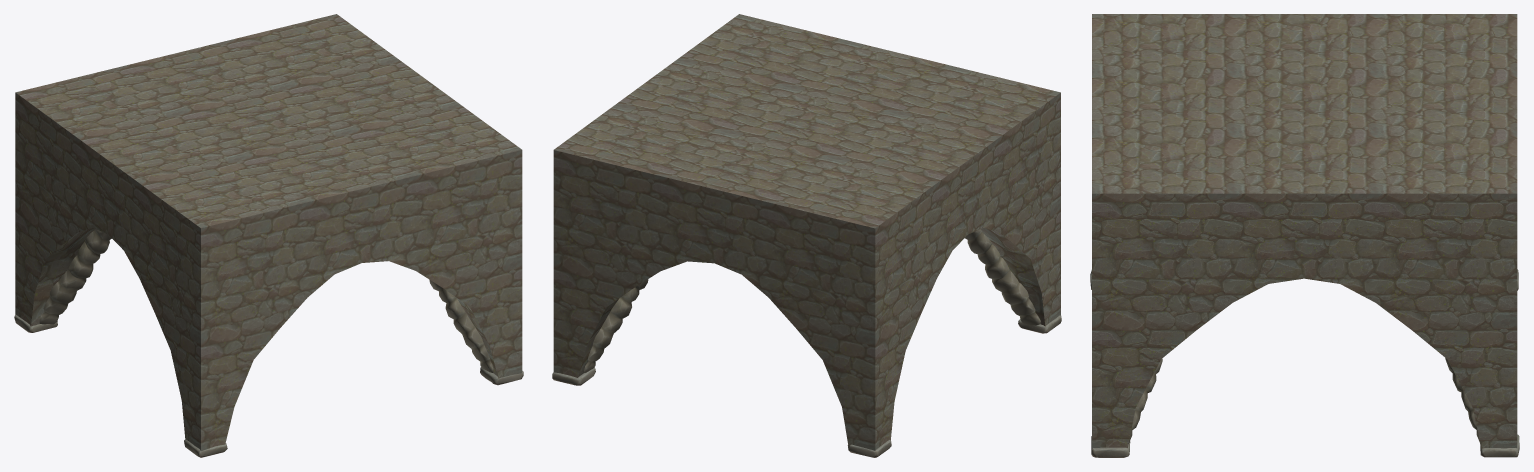
File: SM_FW01_Ruins_Int_Ceiling_A_6x6_01.fbx
3 views of the same model, side by side, from view 1: azimuth 30°, elevation 25°; view 2: azimuth 150°, elevation 25°; view 3: azimuth 270°, elevation 25° (orthographic). The views are drawn at different scales.
Visible parts, largest first — view 1: SM_FW01_Ruins_Int_Ceiling_A_6x6_01, SM_FW01_Ruins_Int_Ceiling_A_6x6_01_LOD0; view 2: SM_FW01_Ruins_Int_Ceiling_A_6x6_01, SM_FW01_Ruins_Int_Ceiling_A_6x6_01_LOD0; view 3: SM_FW01_Ruins_Int_Ceiling_A_6x6_01, SM_FW01_Ruins_Int_Ceiling_A_6x6_01_LOD0.
Part boxes in pixels (<box>): SM_FW01_Ruins_Int_Ceiling_A_6x6_01: <box>15,14,522,451</box>; SM_FW01_Ruins_Int_Ceiling_A_6x6_01_LOD0: <box>14,229,523,457</box>; SM_FW01_Ruins_Int_Ceiling_A_6x6_01: <box>553,14,1060,450</box>; SM_FW01_Ruins_Int_Ceiling_A_6x6_01_LOD0: <box>552,229,1061,457</box>; SM_FW01_Ruins_Int_Ceiling_A_6x6_01: <box>1092,14,1517,449</box>; SM_FW01_Ruins_Int_Ceiling_A_6x6_01_LOD0: <box>1090,269,1519,457</box>.
Size of what is drawn, in the model's own units: 6.09 by 4.11 by 6.06.
